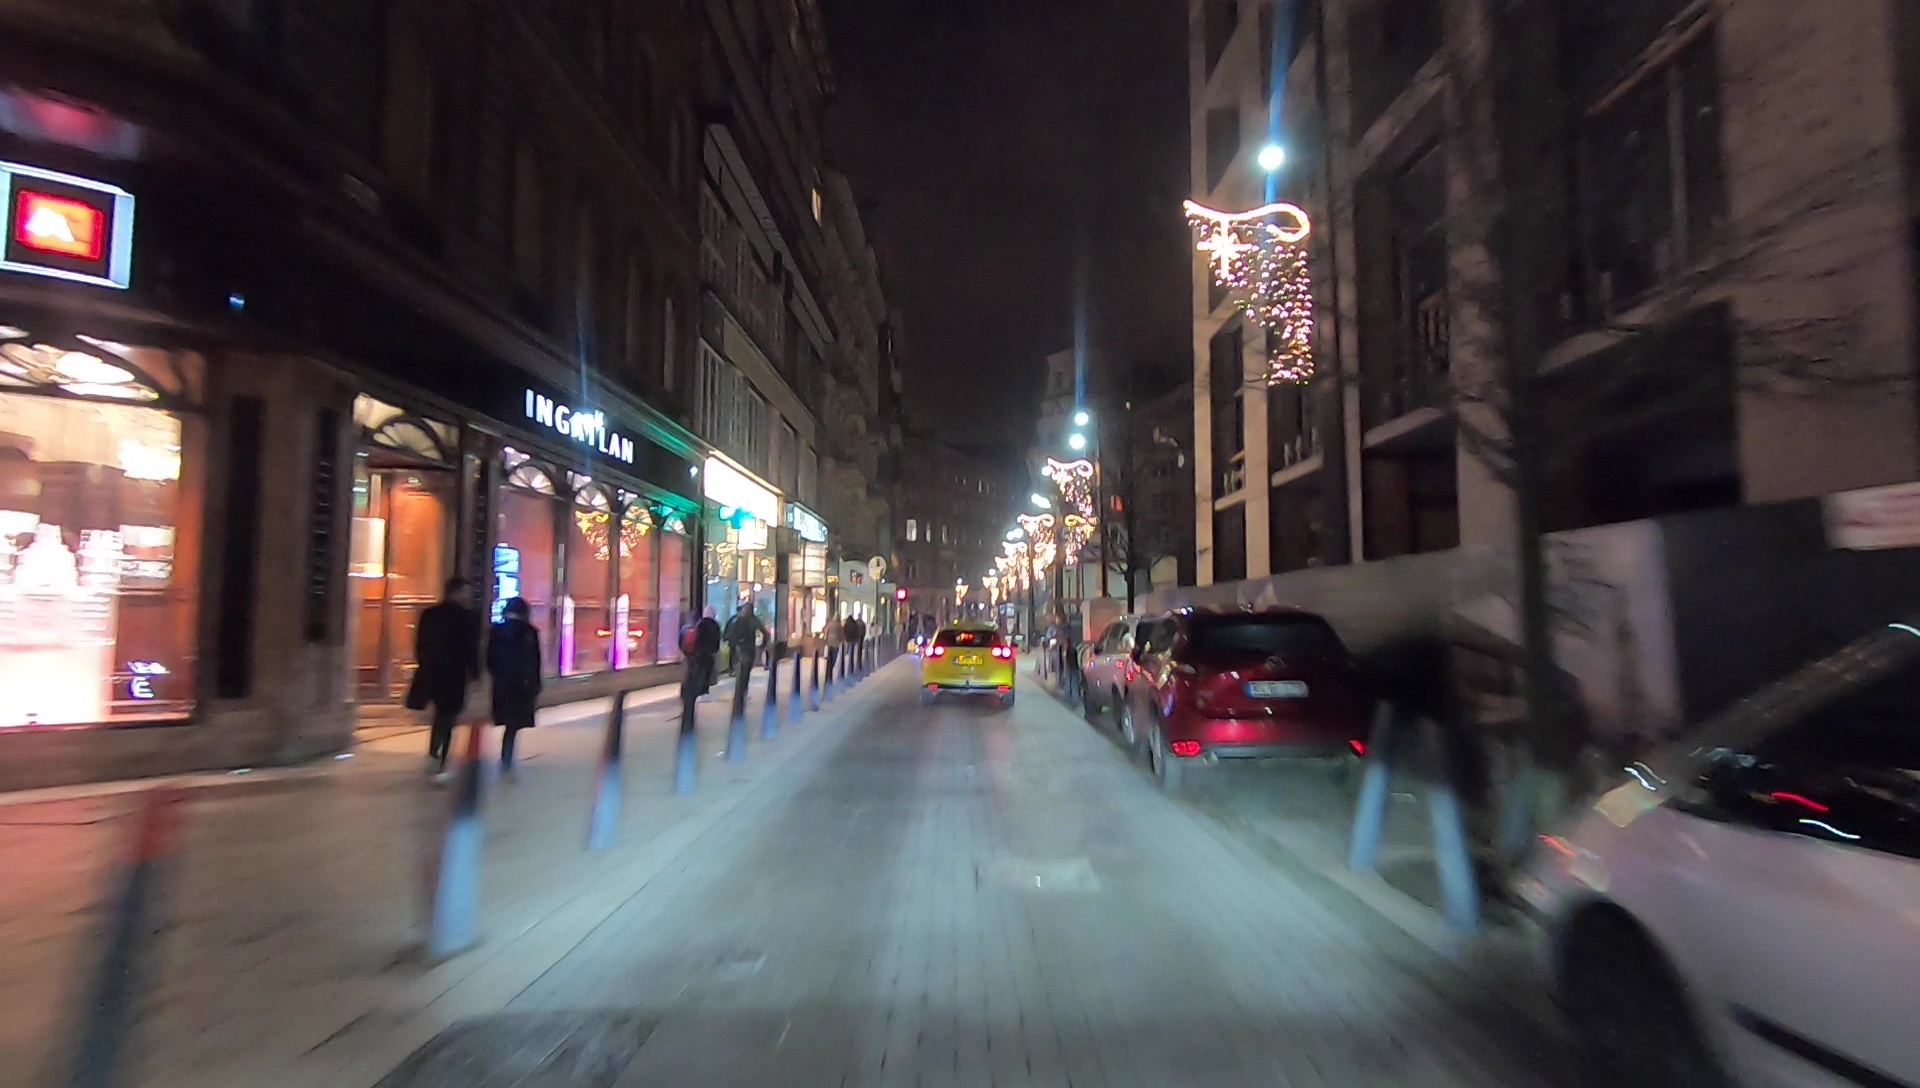person: (417, 576, 478, 789), (484, 593, 545, 789), (679, 597, 717, 710), (728, 599, 765, 704), (820, 611, 844, 685), (853, 613, 866, 667), (844, 611, 855, 671)
